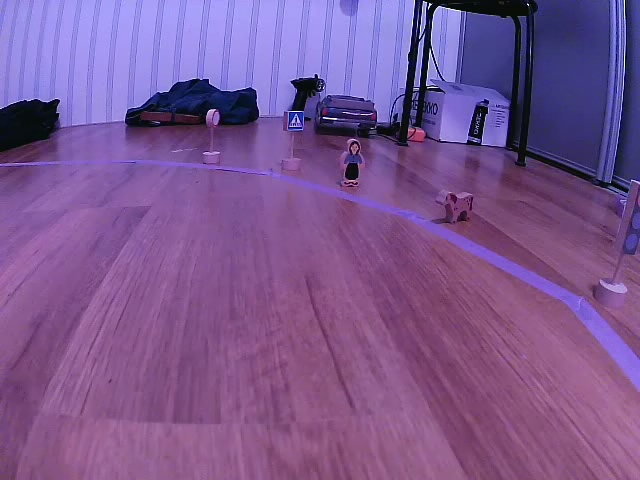mens: (337, 136, 364, 189)
paard: (436, 188, 475, 225)
zebrapad: (285, 109, 305, 133)
